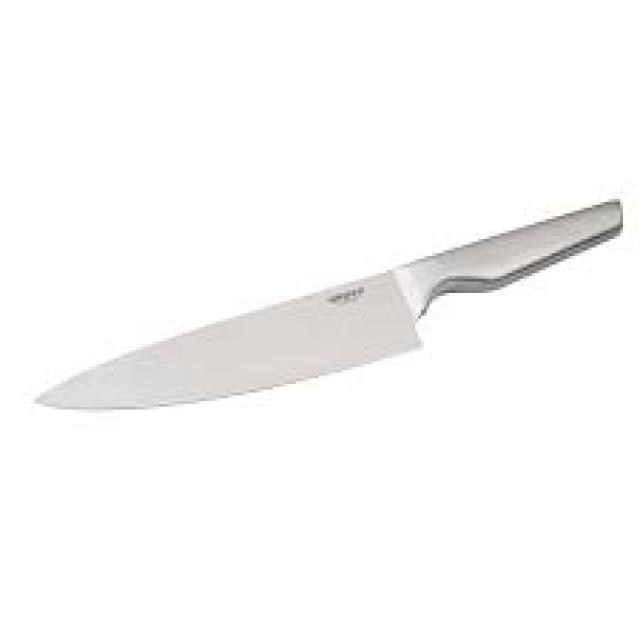Knife: (31, 196, 623, 410)
